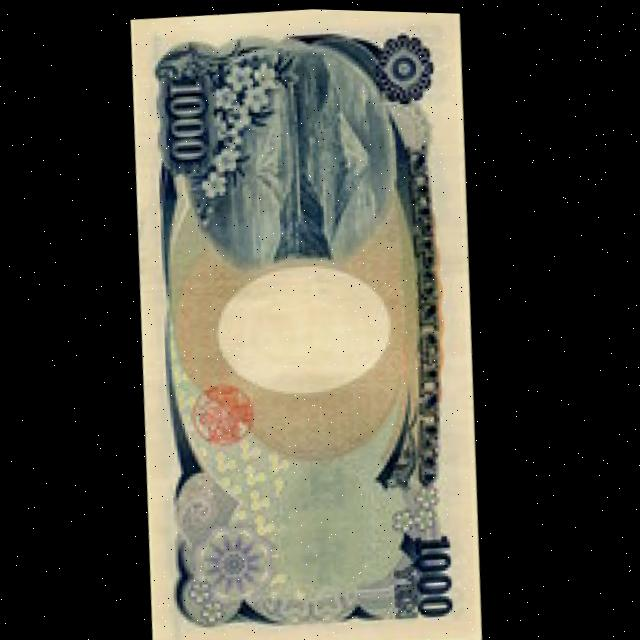banknote: (104, 3, 516, 640)
